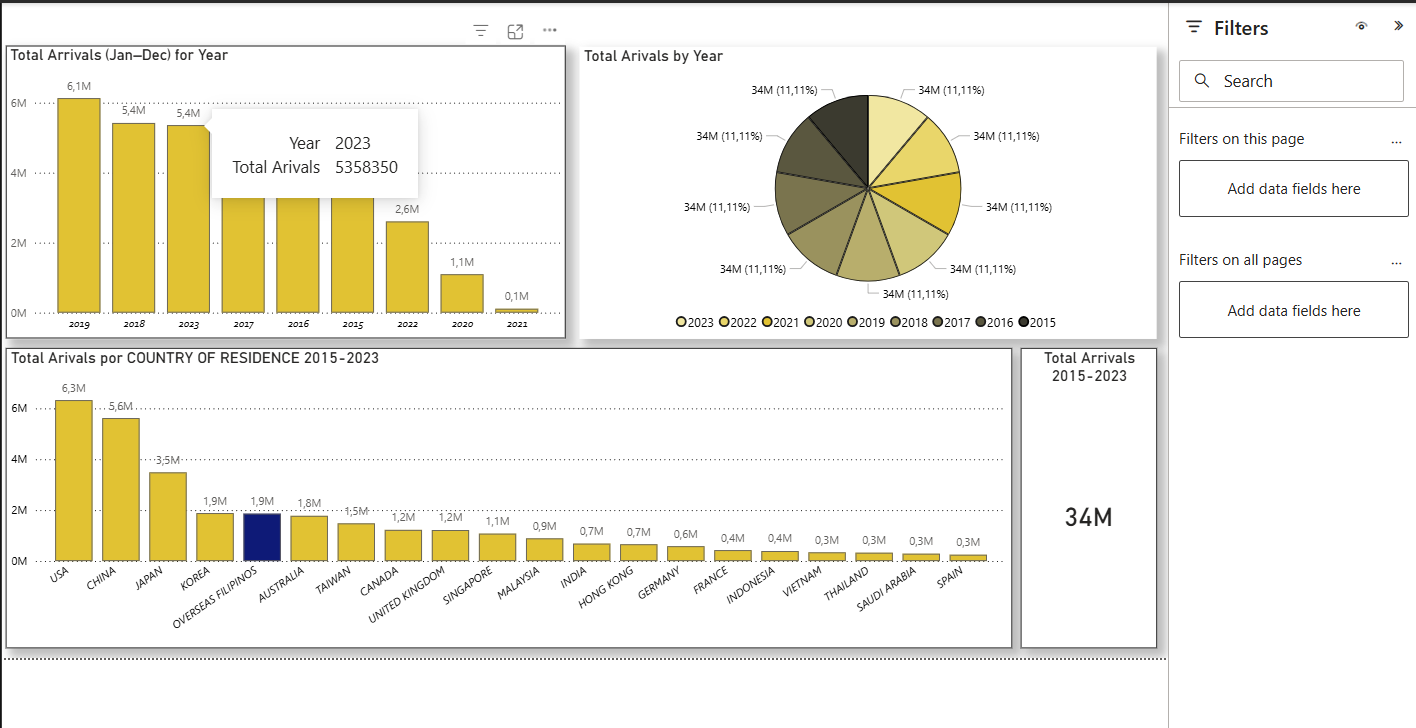

The dashboard page shown, as its layout file describes it:
{"tool":"powerbi","page":{"name":"Total Arrivals","canvas":[1280,720],"ordinal":0},"visuals":[{"type":"clusteredColumnChart","title":"Total Arrivals (Jan–Dec) for Year","fields":{"Y":["Measures (2).Total Arivals"],"Category":["Dim_Date.Year"]},"box":[4.1,46.7,614.8,322.5],"z":0},{"type":"pieChart","fields":{"Category":["Dim_year.Year"],"Y":["Measures (2).Total Arivals"]},"box":[634,48,634,321.1],"z":1000},{"type":"clusteredColumnChart","title":"Total Arivals por COUNTRY OF RESIDENCE 2015-2023","fields":{"Y":["Measures (2).Total Arivals"],"Category":["df_master_2015_2023.COUNTRY OF RESIDENCE"]},"box":[4.1,378.7,1104.6,329.3],"z":2000},{"type":"card","title":"Total Arrivals 2015-2023","fields":{"Values":["Measures (2).Total Arivals"]},"box":[1118.4,378.7,149.6,329.3],"z":3000}]}

Visuals, with their boxes on the page's 1280x720 design canvas (x1, y1, x2, y2). These are canvas units, not pixel positions in the 1416x728 screenshot, which may show the page scaled, cropped or inside an application window:
"Total Arrivals (Jan–Dec) for Year" clusteredColumnChart: box(4, 47, 619, 369)
pieChart - Dim_year.Year x Measures (2).Total Arivals: box(634, 48, 1268, 369)
"Total Arivals por COUNTRY OF RESIDENCE 2015-2023" clusteredColumnChart: box(4, 379, 1109, 708)
"Total Arrivals 2015-2023" card: box(1118, 379, 1268, 708)
